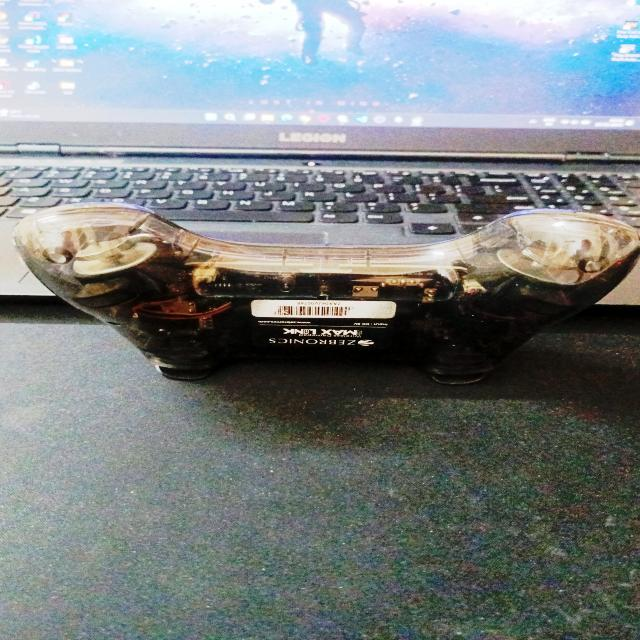gamepad: (12, 201, 638, 385)
